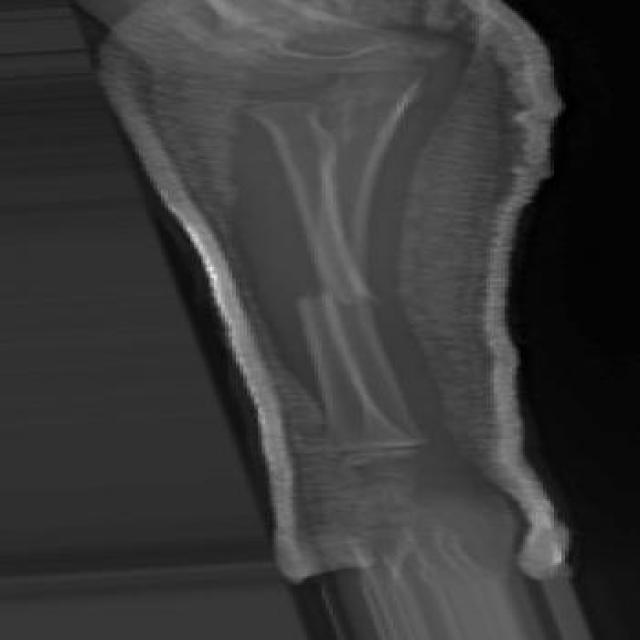Fracture: (287, 278, 380, 314)
